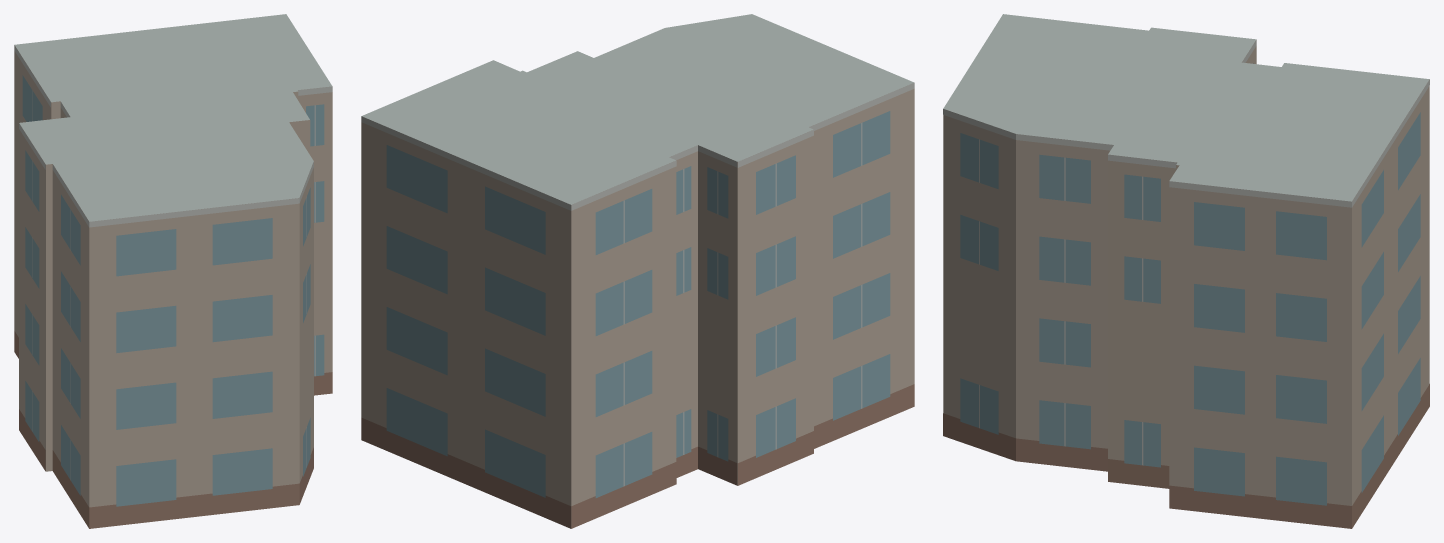
File: survey-upis-32610286.glb
3 renders of one model, left to right at view 1: azimuth 30°, elevation 25°; view 2: azimuth 150°, elevation 25°; view 3: azimuth 270°, elevation 25°, orthographic. The views are drawn at different scales.
Visible parts, largest first — view 1: survey-upis-32610286.tmp; view 2: survey-upis-32610286.tmp; view 3: survey-upis-32610286.tmp.
Boxes of the visible parts, left/top/right/bottom form: survey-upis-32610286.tmp: left=14, top=14, right=332, bottom=528; survey-upis-32610286.tmp: left=361, top=14, right=914, bottom=528; survey-upis-32610286.tmp: left=943, top=14, right=1429, bottom=528.
Size of the model in its own units: 16.11 by 13.1 by 17.66.
